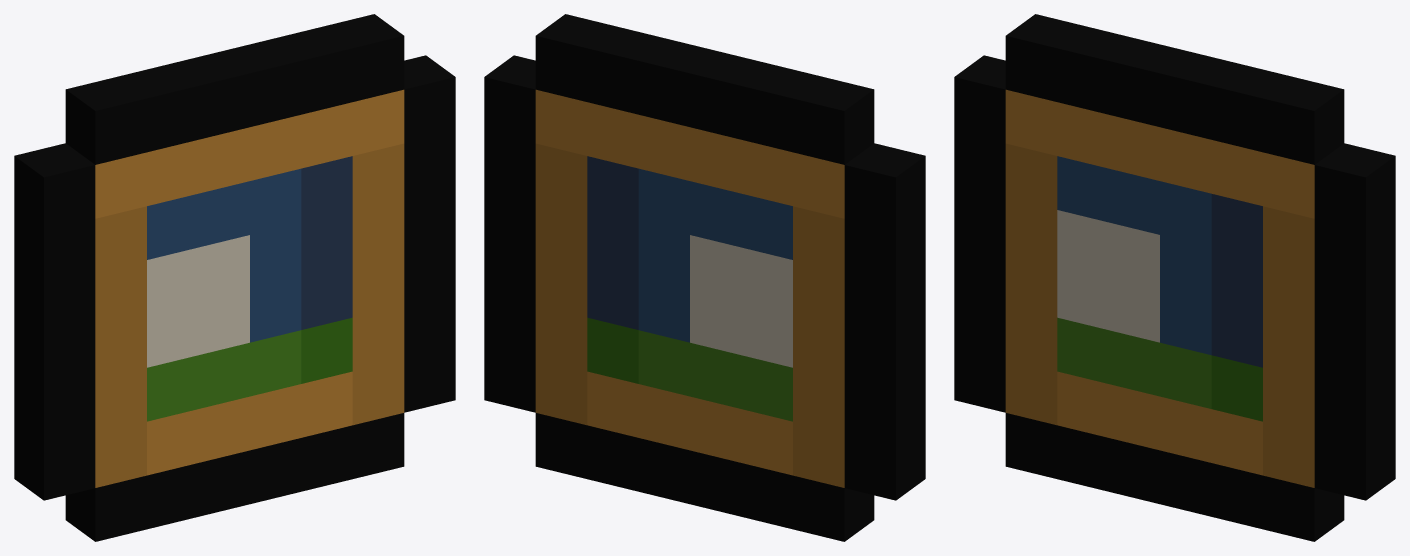
The model's file is clock_wood_early_night.glb.
3 views of the same model, side by side, from view 1: azimuth 30°, elevation 25°; view 2: azimuth 150°, elevation 25°; view 3: azimuth 330°, elevation 25° (orthographic).
Parts seen in each view (by area): view 1: generated(Clone); view 2: generated(Clone); view 3: generated(Clone).
Part boxes in pixels (<box>): generated(Clone): <box>14,14,455,541</box>; generated(Clone): <box>484,14,925,541</box>; generated(Clone): <box>954,14,1395,541</box>.
Size of the model in its own units: 8 by 8 by 1.
1 material, 1 textured.
